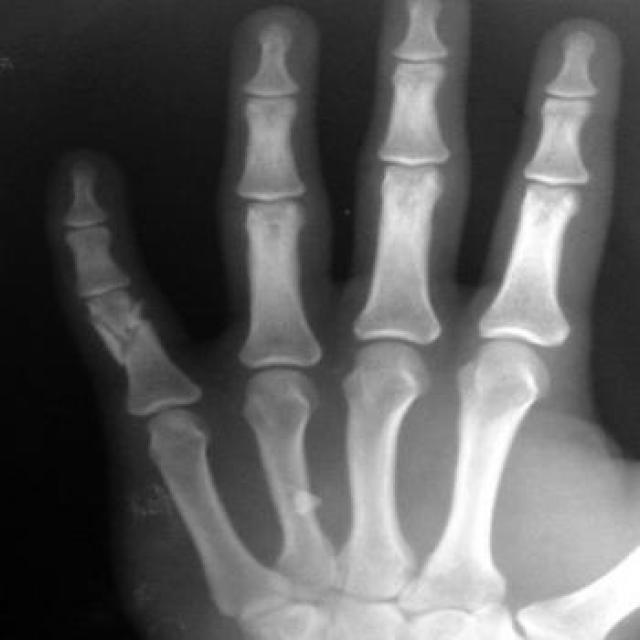fracture: (81, 295, 164, 367)
